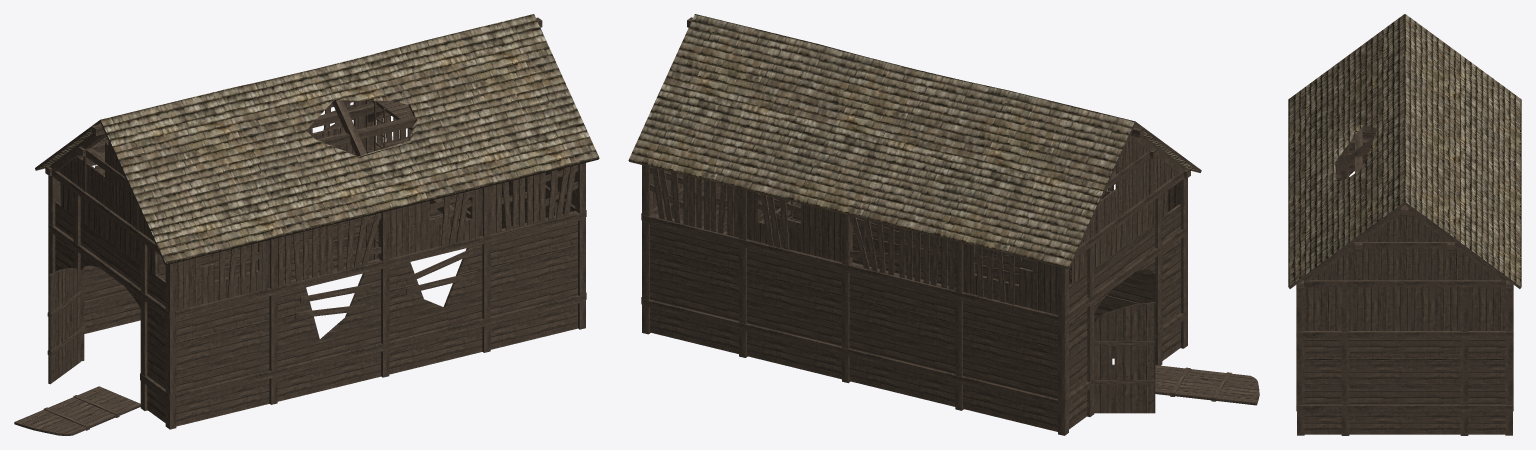
The model's file is f1_barn01.fbx.
3 views of the same model, side by side, from view 1: azimuth 30°, elevation 25°; view 2: azimuth 150°, elevation 25°; view 3: azimuth 270°, elevation 25° (orthographic). The views are drawn at different scales.
Parts seen in each view (by area): view 1: Mesh Object; view 2: Mesh Object; view 3: Mesh Object.
Part boxes in pixels (bbox=[...]): Mesh Object: bbox=[14, 14, 599, 435]; Mesh Object: bbox=[628, 14, 1259, 435]; Mesh Object: bbox=[1288, 14, 1521, 435].
Size of the model in its own units: 10.45 by 4.93 by 4.37.
